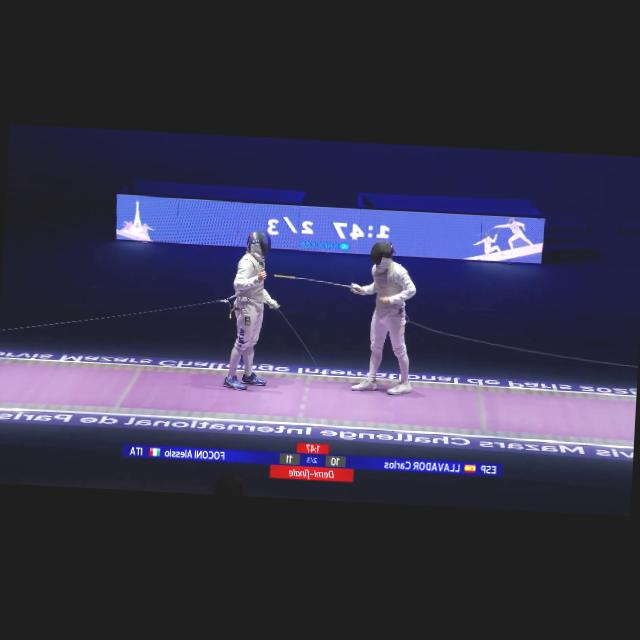blade: (268, 302, 326, 372), (268, 272, 362, 294)
